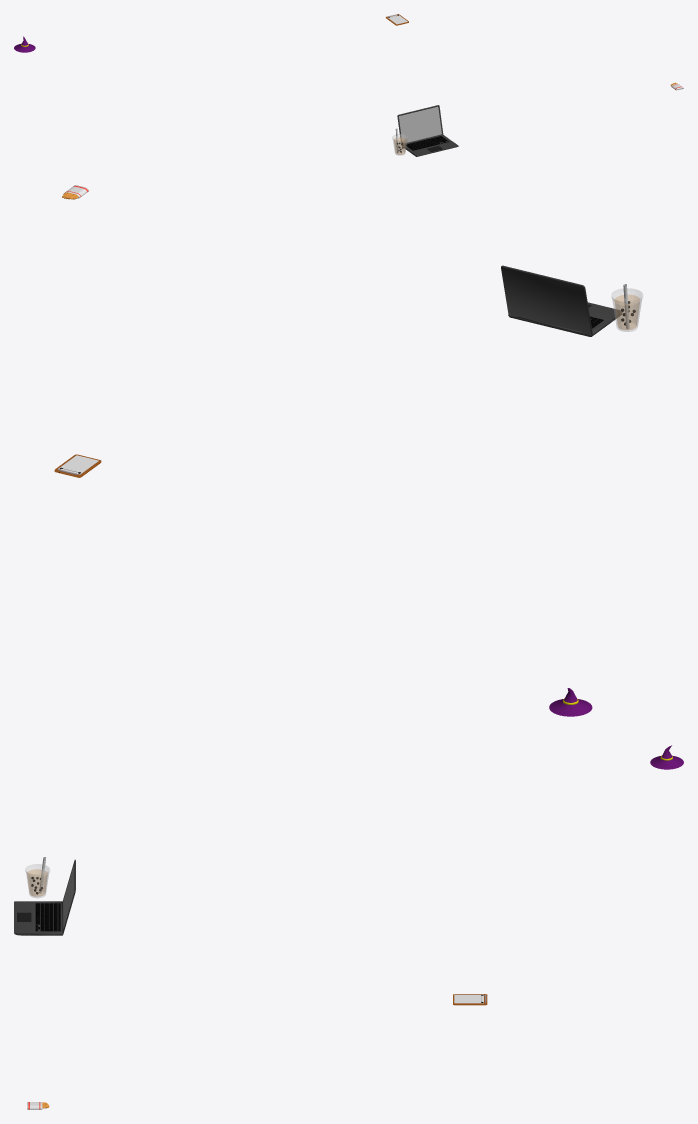
Rendered from PROP.glb.
3 views of the same model, one above another, from view 1: azimuth 30°, elevation 25°; view 2: azimuth 150°, elevation 25°; view 3: azimuth 270°, elevation 25° (orthographic). The views are drawn at different scales.
Parts seen in each view (by area): view 1: screen, Cylinder.024; view 2: screen, Cylinder.024; view 3: screen, Cylinder.024.
Part boxes in pixels (x1,y1,x2,y2): screen: (397, 105, 458, 156); Cylinder.024: (392, 128, 407, 155); screen: (501, 265, 622, 336); Cylinder.024: (611, 284, 642, 331); screen: (14, 859, 75, 935); Cylinder.024: (25, 857, 49, 897).
Bounding box in the file's own units: 416 × 24.79 × 334.
